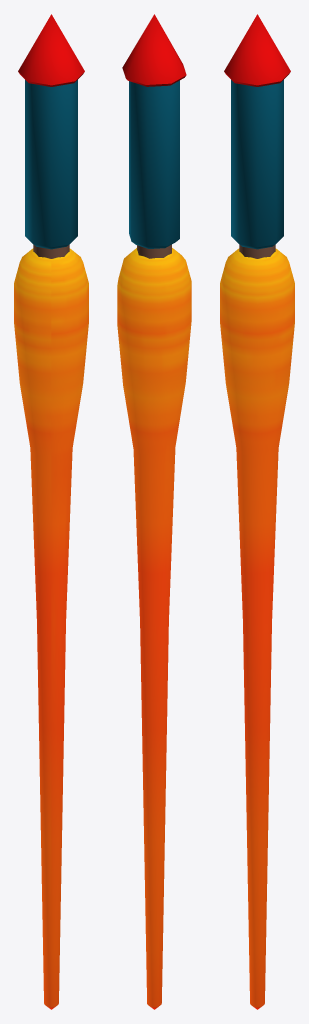
The model's file is firework.glb.
3 renders of one model, left to right at view 1: azimuth 90°, elevation 25°; view 2: azimuth 210°, elevation 25°; view 3: azimuth 270°, elevation 25°, orthographic.
Visible parts, largest first — view 1: Sphere, Cylinder; view 2: Sphere, Cylinder; view 3: Sphere, Cylinder.
Part boxes in pixels (box(x1,y1,x2,y2)): Sphere: box(14, 248, 88, 1009); Cylinder: box(18, 14, 84, 258); Sphere: box(117, 248, 191, 1009); Cylinder: box(122, 14, 186, 258); Sphere: box(220, 248, 294, 1009); Cylinder: box(224, 14, 290, 258).
Size of the model in its own units: 2.81 by 41.38 by 2.81.
2 materials, 2 textured.
